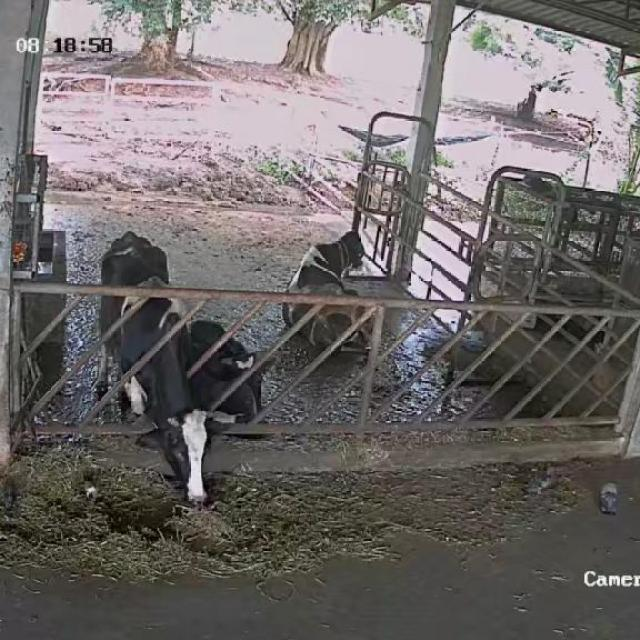feeding: (96, 230, 212, 504)
lying down: (280, 228, 376, 354), (178, 314, 270, 432)
